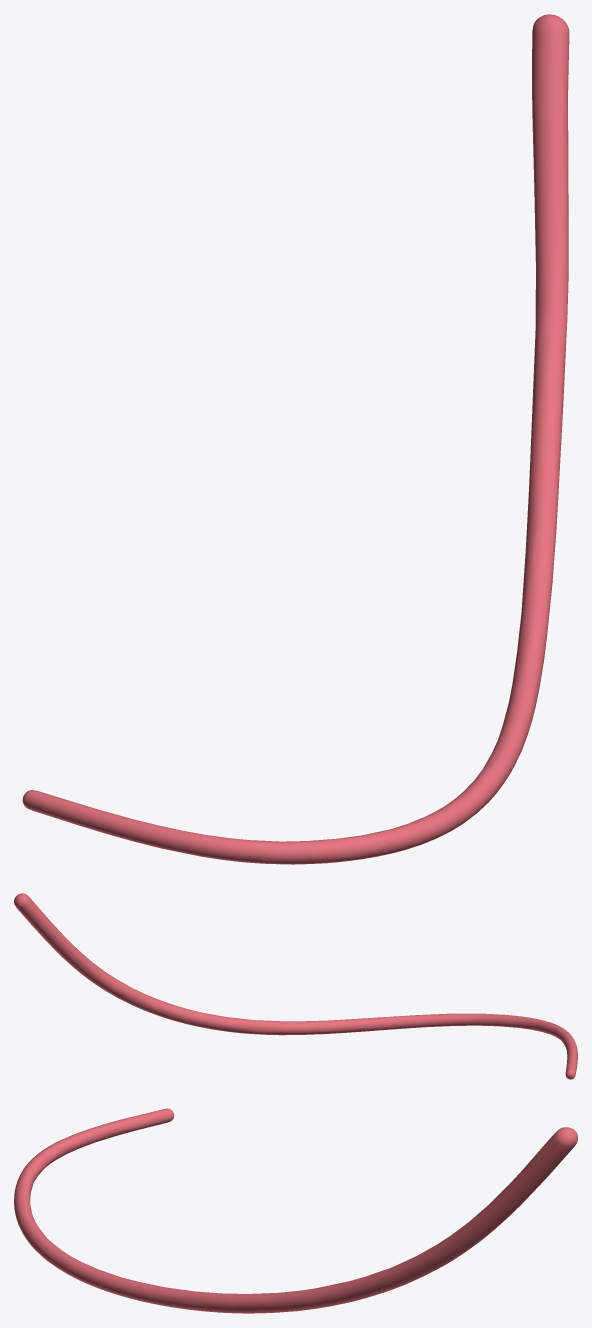
Rendered from fma44887_fj2153.glb.
The picture shows the model from 3 angles, top to bottom: view 1: azimuth 30°, elevation 25°; view 2: azimuth 150°, elevation 25°; view 3: azimuth 270°, elevation 25°; orthographic projection. The views are drawn at different scales.
Visible parts, largest first — view 1: FMA44887_FJ2153; view 2: FMA44887_FJ2153; view 3: FMA44887_FJ2153.
Boxes of the visible parts, x1=… form: FMA44887_FJ2153: x1=22, y1=14, x2=569, y2=864; FMA44887_FJ2153: x1=14, y1=893, x2=577, y2=1079; FMA44887_FJ2153: x1=14, y1=1108, x2=577, y2=1313.
Size of the model in its own units: 0.0693 by 0.0337 by 0.0592.
